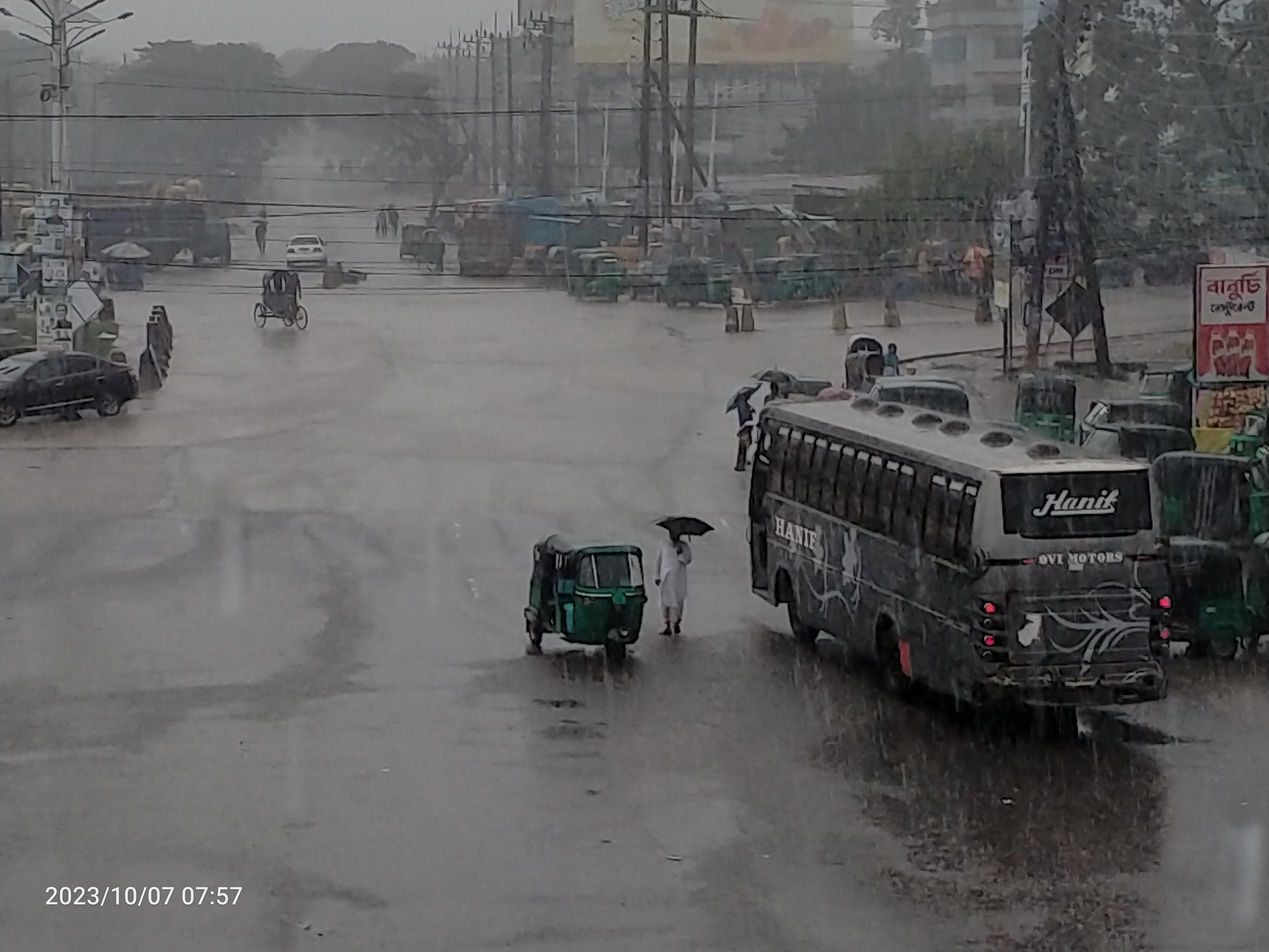Car: (0, 337, 147, 440), (239, 258, 317, 340), (282, 226, 341, 278)
Truck: (45, 158, 207, 267)
